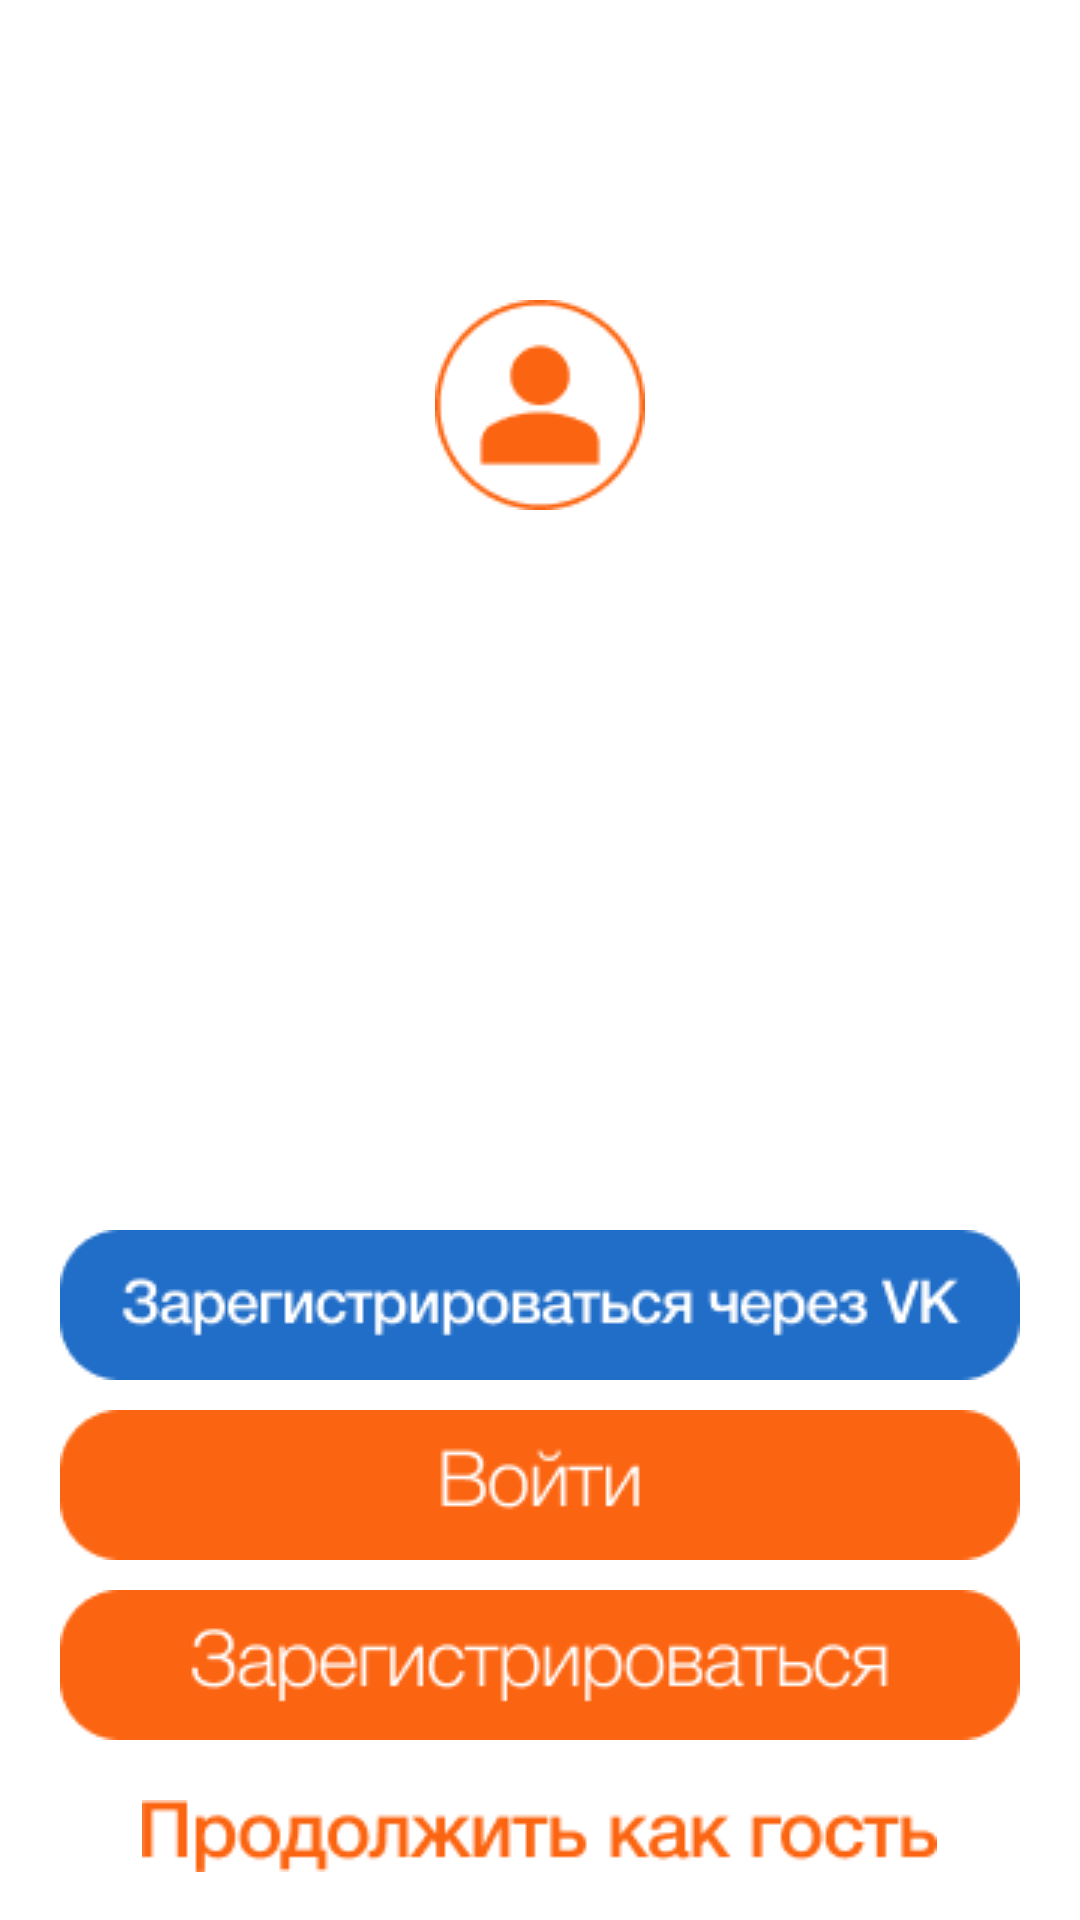

Locate icon controls on the screen. Image size 1080*1920, boxes as (x1, y1, x2, y2).
person: (435, 300, 645, 510)
